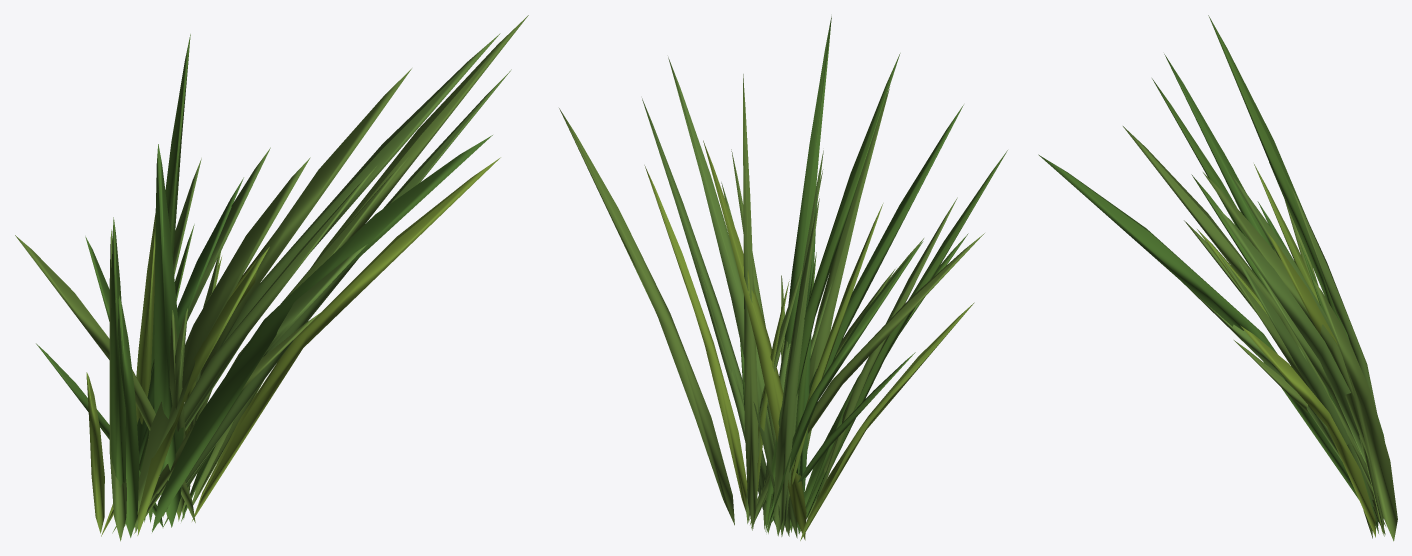
Rendered from walltuft_tall.glb.
The picture shows the model from 3 angles, left to right: view 1: azimuth 30°, elevation 25°; view 2: azimuth 150°, elevation 25°; view 3: azimuth 270°, elevation 25°; orthographic projection. The views are drawn at different scales.
Visible parts, largest first — view 1: Sammel Pflanze; view 2: Sammel Pflanze; view 3: Sammel Pflanze.
Part boxes in pixels (x1,y1,x2,y2): Sammel Pflanze: [15, 15, 528, 541]; Sammel Pflanze: [559, 16, 1007, 540]; Sammel Pflanze: [1038, 15, 1397, 541].
Size of the model in its own units: 0.6483 by 0.6673 by 0.4517.
